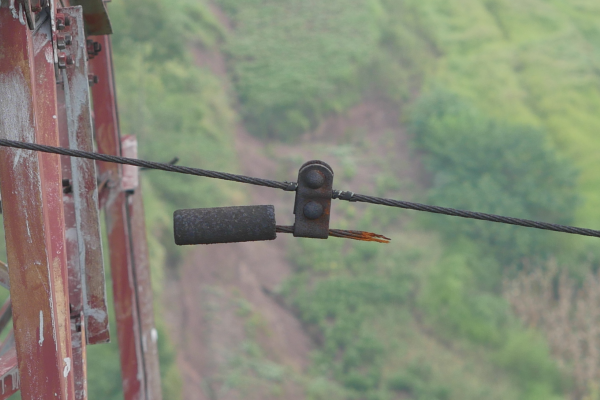damper_defect: (170, 155, 397, 248)
